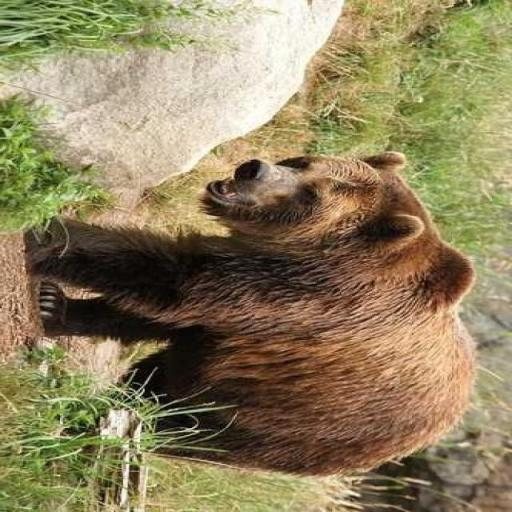Bear: (20, 148, 478, 478)
